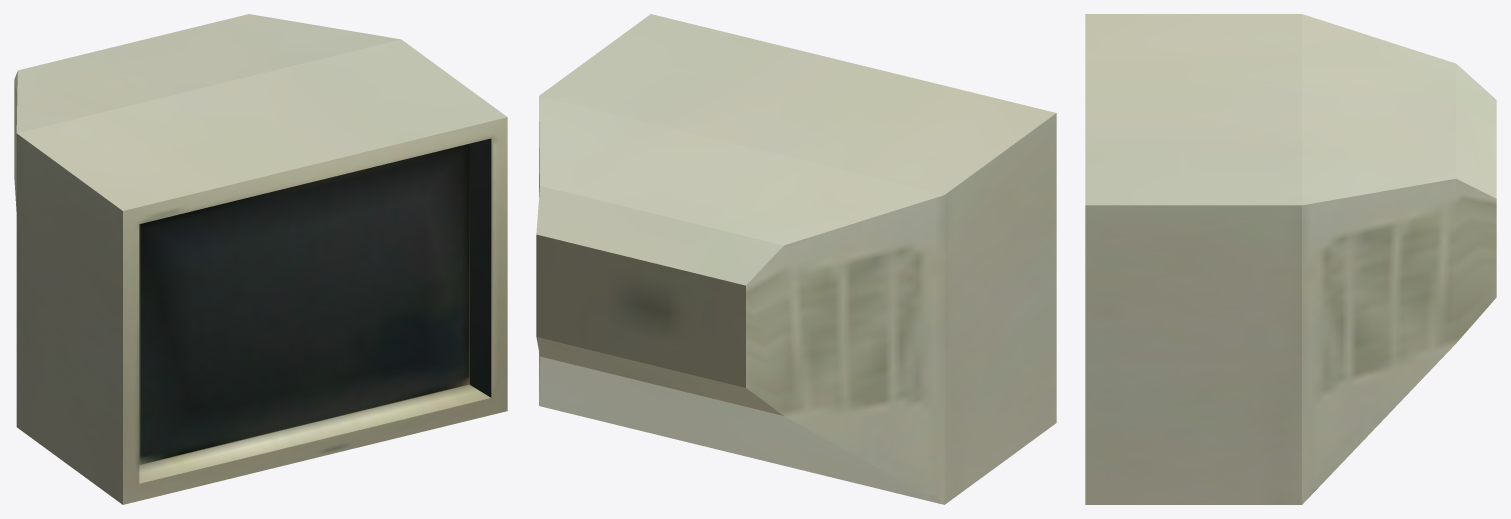
File: monitor_1fbx.fbx
3 renders of one model, left to right at view 1: azimuth 30°, elevation 25°; view 2: azimuth 150°, elevation 25°; view 3: azimuth 270°, elevation 25°, orthographic. The views are drawn at different scales.
Parts seen in each view (by area): view 1: monitor; view 2: monitor; view 3: monitor.
Part boxes in pixels (box(x1,y1,x2,y2)): monitor: box(14, 14, 507, 504); monitor: box(536, 14, 1056, 504); monitor: box(1085, 14, 1496, 504).
Bounding box in the file's own units: 120 × 109 × 87.75.
1 material, 1 textured.
